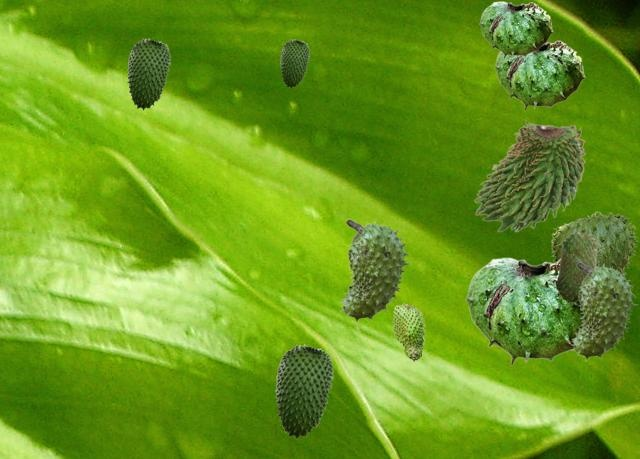guyabano: (465, 257, 582, 365), (473, 119, 585, 231), (339, 219, 410, 322), (570, 262, 637, 360), (494, 40, 584, 110), (551, 211, 637, 276), (275, 344, 332, 438), (479, 1, 552, 58), (555, 231, 597, 302), (127, 38, 169, 109), (392, 303, 425, 360), (280, 39, 308, 87)
